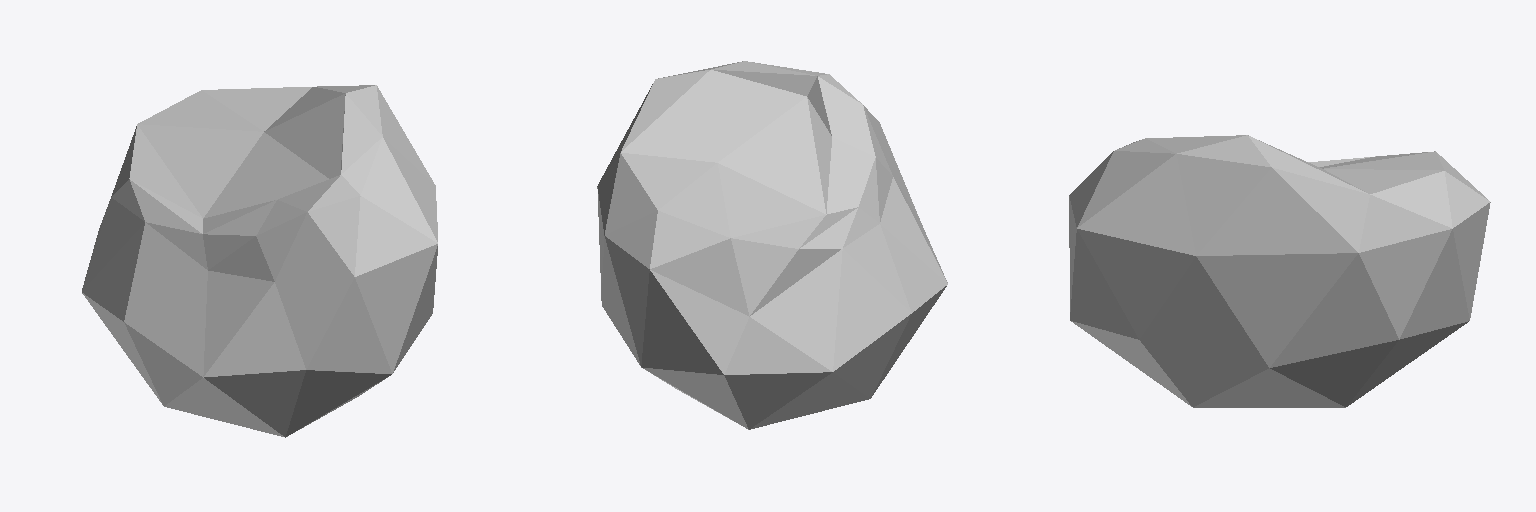
The model's file is rock1.obj.
3 views of the same model, side by side, from view 1: azimuth 30°, elevation 25°; view 2: azimuth 150°, elevation 25°; view 3: azimuth 270°, elevation 25° (orthographic).
Parts seen in each view (by area): view 1: Rock1; view 2: Rock1; view 3: Rock1.
Boxes of the visible parts, <box> form: Rock1: <box>82,85,437,437</box>; Rock1: <box>597,61,947,429</box>; Rock1: <box>1069,135,1490,407</box>.
Size of the model in its own units: 0.296 by 0.3213 by 0.3915.